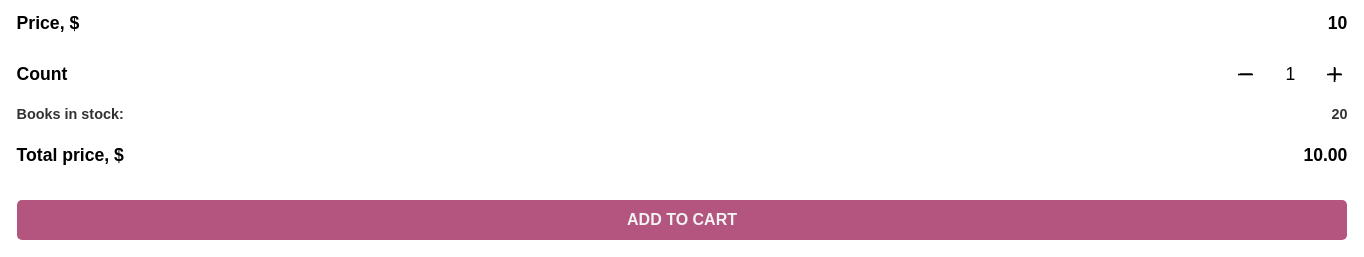
Scenario: AddToCart Component › should update totalPrice when amountToBuy changes
Step 1. Replace the text in the number field with test id "amount" with "5" → (1290, 74), box 1266,52 -> 1314,96
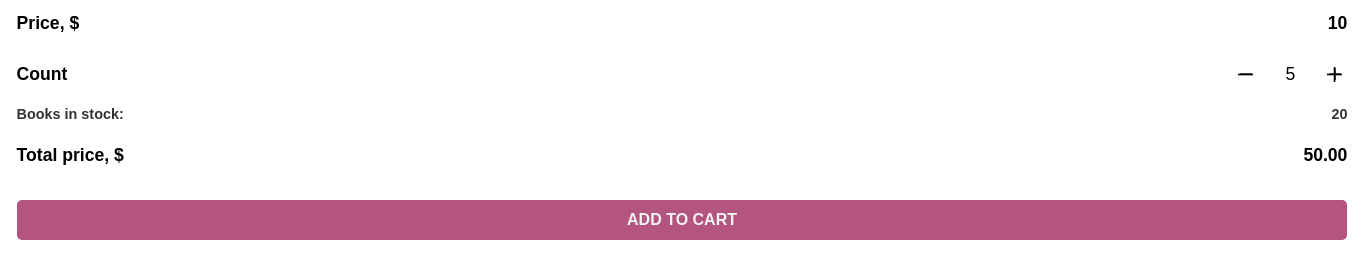
Expected: the text with test id "total-price" reads "50.00", 1303,145 -> 1347,165
